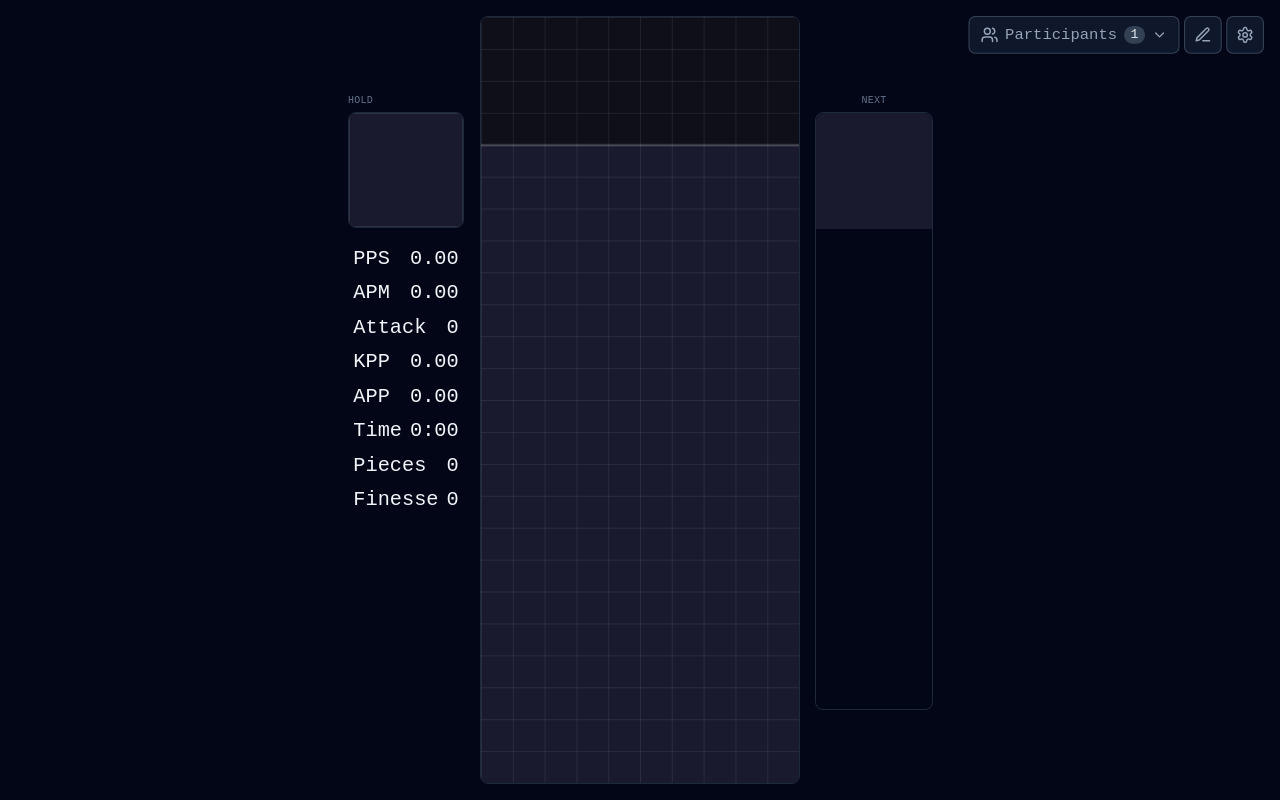
Scenario: App relay integration › shows Discord activity participants as connecting in the roster
Expected: the drawing with test id "board-canvas" is shown, [480, 16, 800, 784]
Click the button "Participants 1": (1074, 35) [968, 16, 1180, 54]
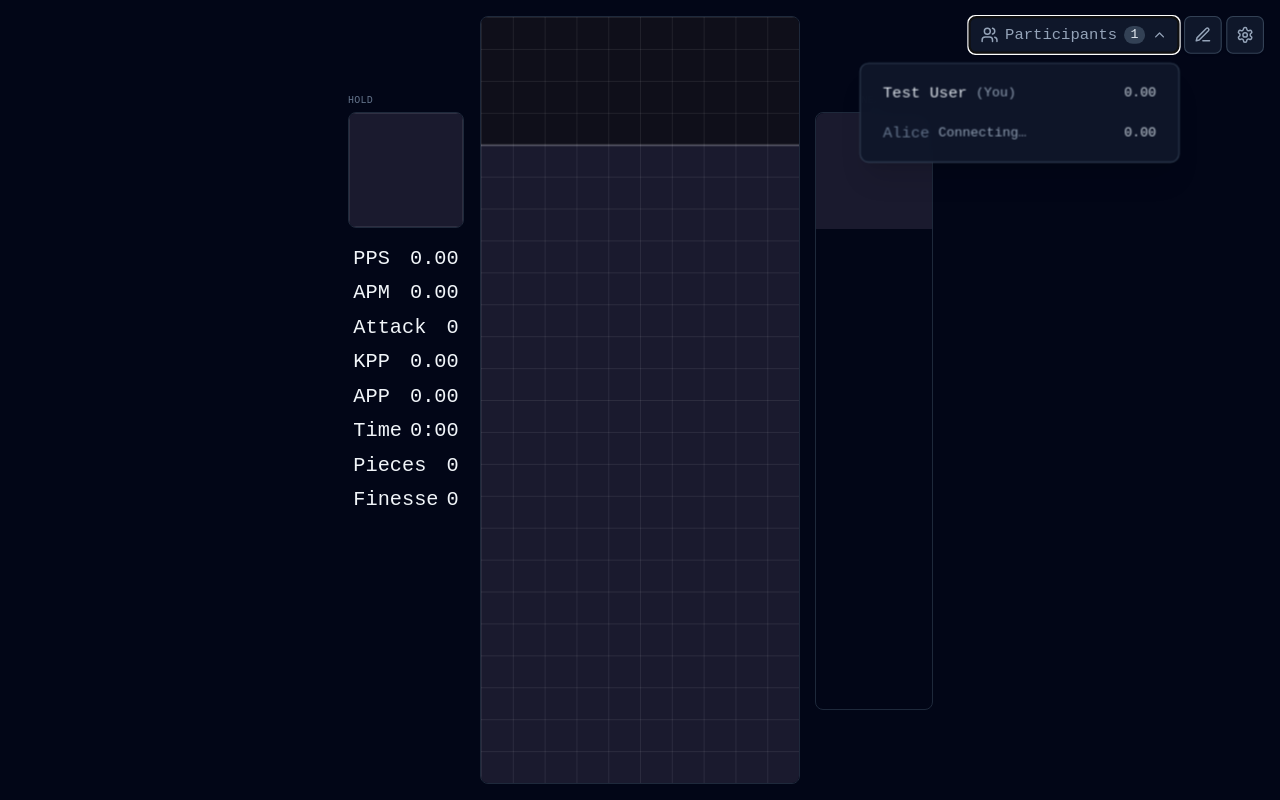
Expected: the text "Alice" is shown, [883, 122, 930, 144]
Expected: the text "Connecting…" is shown, [938, 124, 1026, 142]
